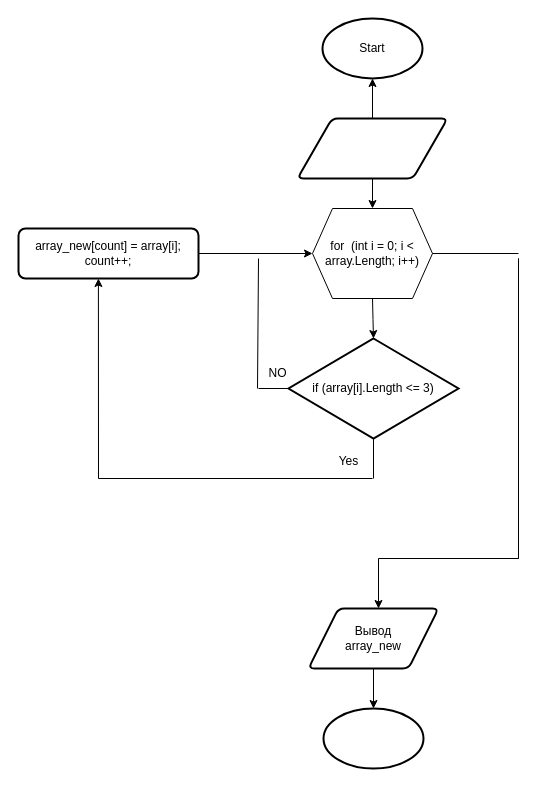
This 537x786 diagram has some shape labels left out. The centre of each missing label's shape, as x and y in pixels:
"End" belongs at [373,738].
"Ввод string[] array; string[] array_new; int count = 0;" belongs at [372,148].
